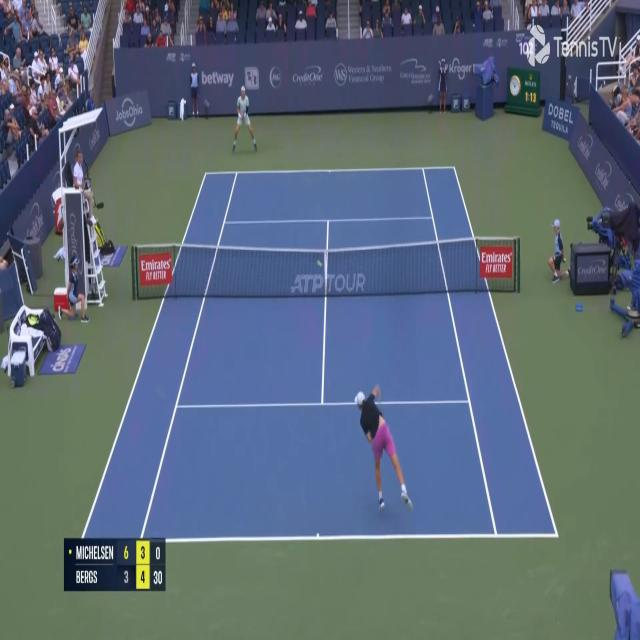tennis-player: (355, 380, 420, 517), (232, 83, 259, 156)
